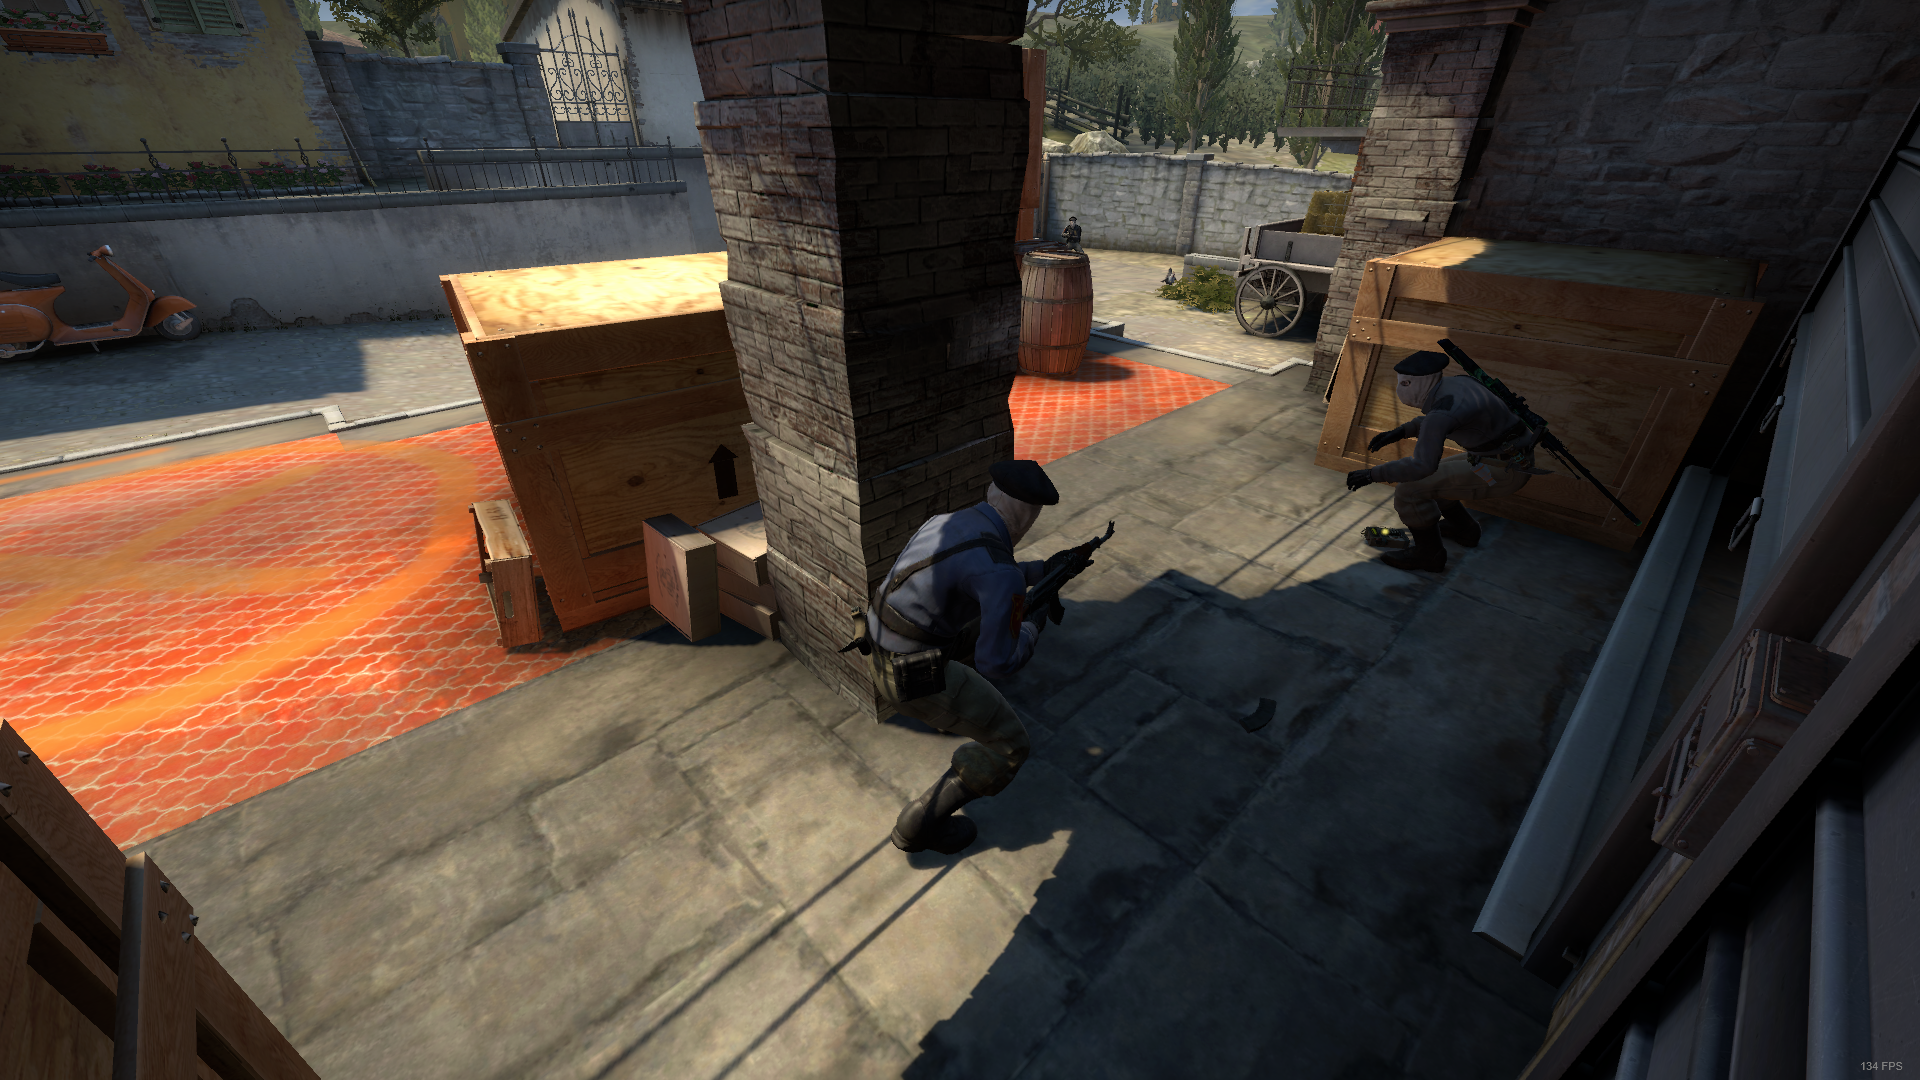t: (855, 451, 1077, 866), (1337, 349, 1545, 589)
